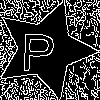P: (20, 24, 57, 72)
